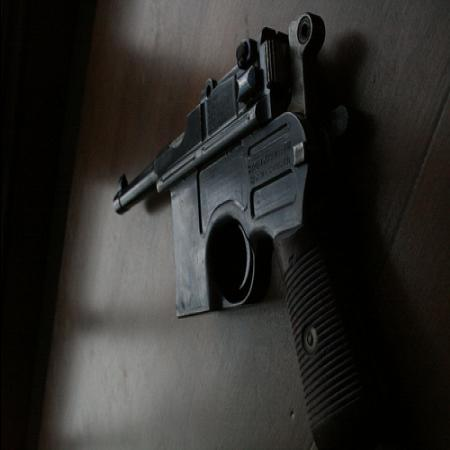Pistol: (107, 17, 397, 448)
